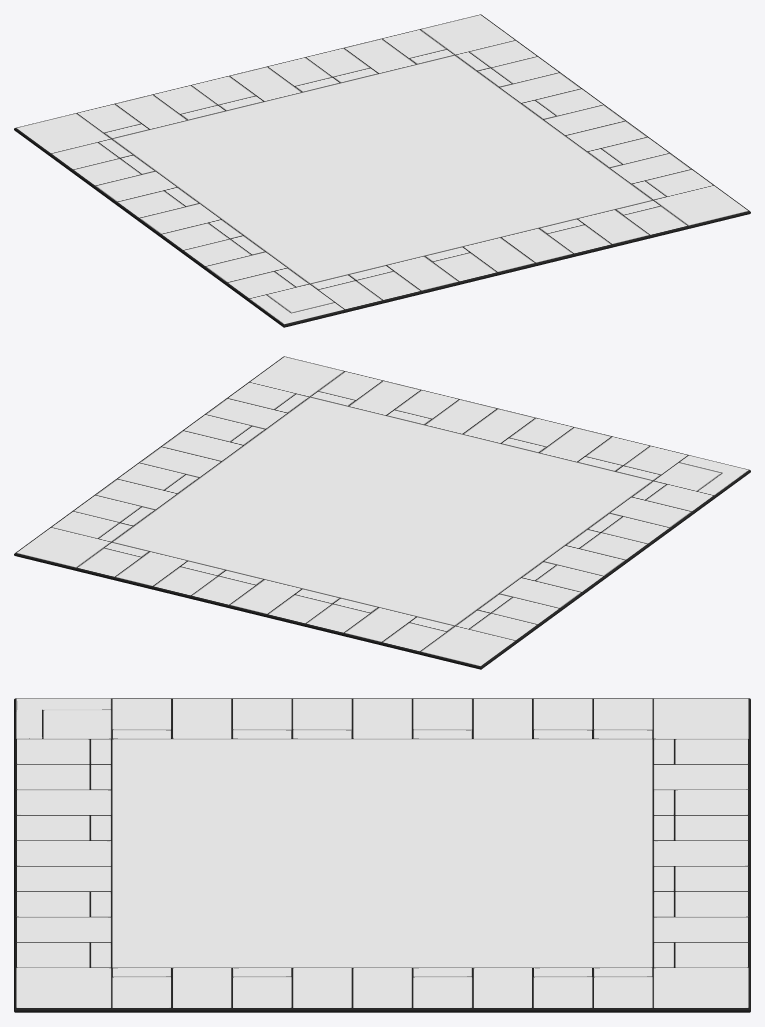
Rendered from Boardv6.fbx.
3 views of the same model, one above another, from view 1: azimuth 30°, elevation 25°; view 2: azimuth 150°, elevation 25°; view 3: azimuth 270°, elevation 25° (orthographic). The views are drawn at different scales.
Parts seen in each view (by area): view 1: Center, JailVisit, Go, Parking, GoToJail, Side.002, Side.008, Side.004, Side.009, Side.005, Side.003, Side.001 (+29 smaller); view 2: Center, Parking, GoToJail, JailVisit, Go, Side.026, Side.019, Side.020, Side.023, Side.024, Side.022, Side.025 (+29 smaller); view 3: Center, Go, GoToJail, Parking, JailVisit, Side.036, Side.034, Side.033, Side.032, Side.031, Side.030, Side.028 (+29 smaller).
Boxes of the visible parts, <box> form: Center: <box>112,55,652,283</box>; JailVisit: <box>248,284,345,327</box>; Go: <box>653,185,750,228</box>; Parking: <box>14,113,111,155</box>; GoToJail: <box>420,14,515,54</box>; Side.002: <box>577,209,650,247</box>; Side.008: <box>348,265,421,303</box>; Side.004: <box>501,228,574,265</box>; Side.009: <box>310,275,383,312</box>; Side.005: <box>463,237,536,275</box>; Side.003: <box>539,219,612,256</box>; Side.001: <box>615,200,688,237</box>; Center: <box>112,397,652,625</box>; Parking: <box>419,626,517,669</box>; GoToJail: <box>14,527,111,570</box>; JailVisit: <box>654,455,750,497</box>; Go: <box>249,356,344,396</box>; Side.026: <box>114,551,187,589</box>; Side.019: <box>381,616,454,654</box>; Side.020: <box>343,607,416,645</box>; Side.023: <box>228,579,301,617</box>; Side.024: <box>190,570,263,607</box>; Side.022: <box>266,588,340,626</box>; Side.025: <box>152,561,225,598</box>; Center: <box>111,739,653,967</box>; Go: <box>14,968,111,1012</box>; GoToJail: <box>653,968,750,1012</box>; Parking: <box>653,698,750,739</box>; JailVisit: <box>14,698,111,739</box>; Side.036: <box>111,968,171,1012</box>; Side.034: <box>232,968,292,1012</box>; Side.033: <box>292,968,352,1012</box>; Side.032: <box>352,968,412,1012</box>; Side.031: <box>412,968,472,1012</box>; Side.030: <box>472,968,532,1012</box>; Side.028: <box>593,968,653,1012</box>.
Bounding box in the file's own units: 196 × 1.2 × 196.
Materials: 3 (3 with a texture image).
